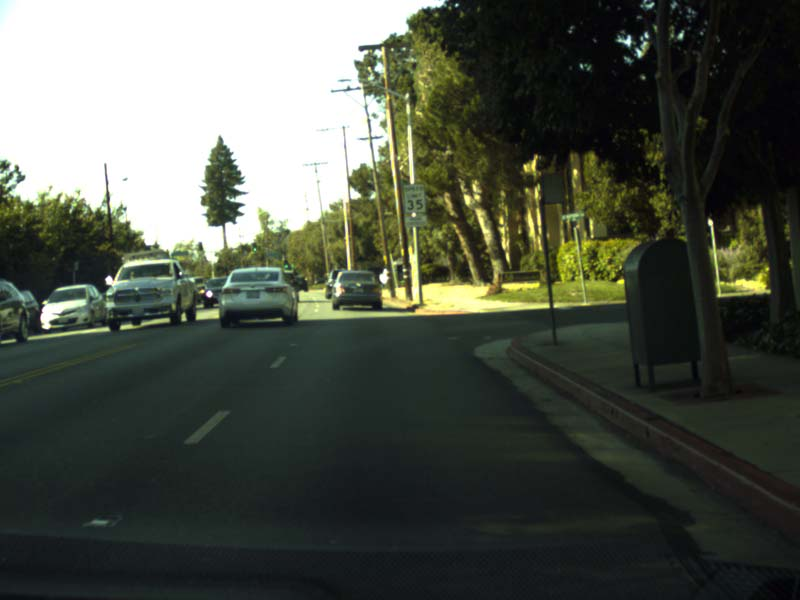Green: (283, 259, 288, 268), (252, 243, 256, 251)
